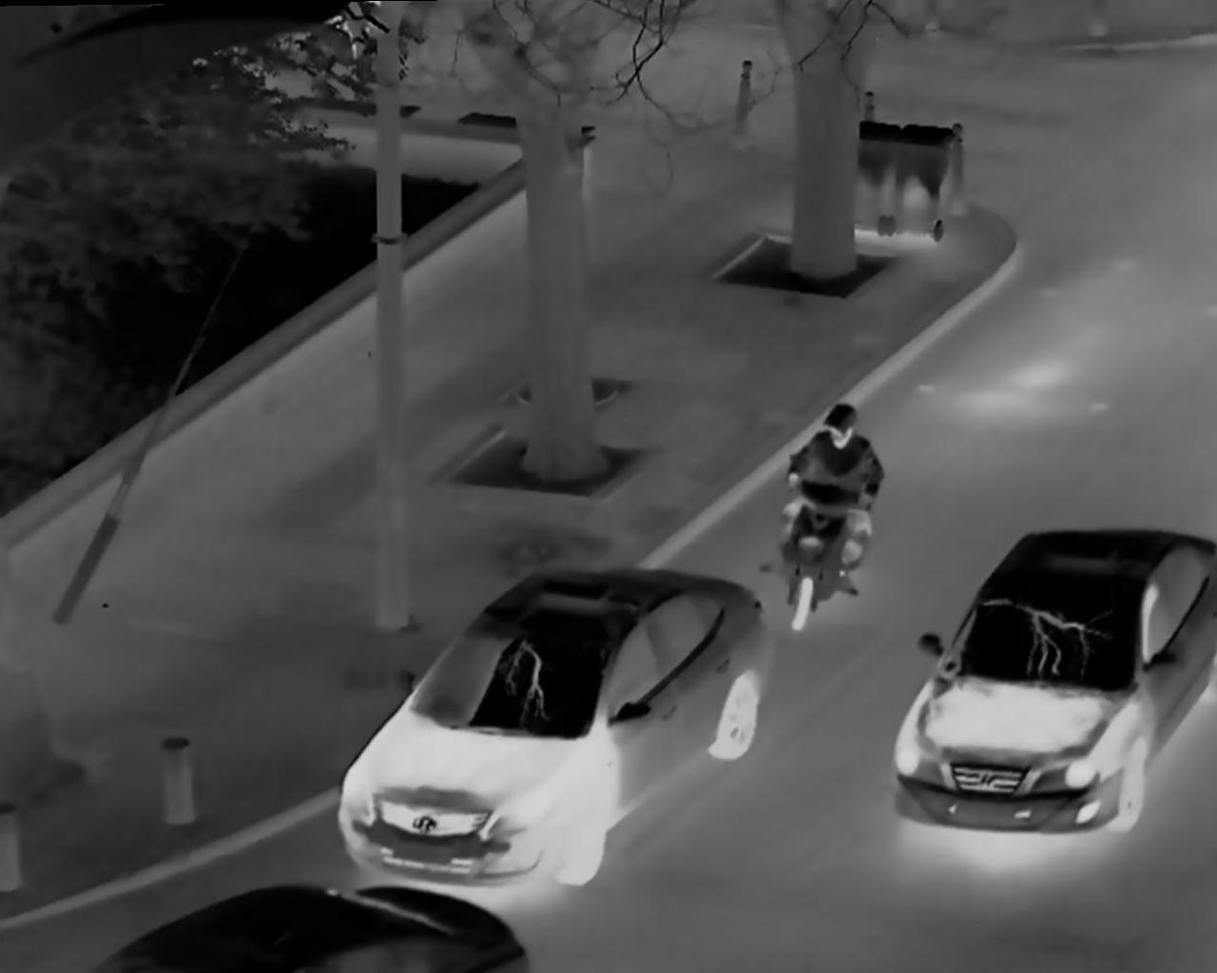person: (776, 395, 885, 623)
